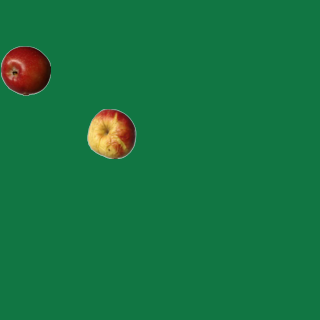Apple Braeburn: (0, 45, 50, 95)
Apple Red Yellow 1: (86, 108, 136, 158)
